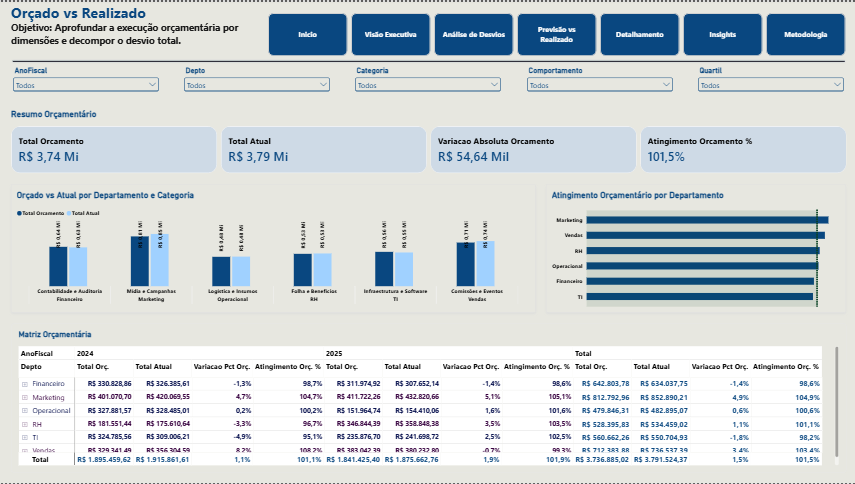

The page's visual inventory and layout, read from the dashboard file:
{"tool":"powerbi","page":{"name":"Orçado vs Realizado","canvas":[1920,1080],"ordinal":2},"visuals":[{"type":"textbox","box":[24,0,552,120],"z":0},{"type":"pageNavigator","title":"Áreas de Análise:","box":[600,24,1296,96],"z":1000},{"type":"shape","box":[24,120,1872,24],"z":2000},{"type":"slicer","fields":{"Values":["FatoOrcamento.AnoFiscal"]},"box":[24,144,336,72],"z":3000},{"type":"slicer","fields":{"Values":["FatoOrcamento.Quartil"]},"box":[1560,144,336,72],"z":4000},{"type":"slicer","fields":{"Values":["FatoOrcamento.Depto"]},"box":[408,144,336,72],"z":5000},{"type":"slicer","fields":{"Values":["FatoOrcamento.Comportamento"]},"box":[1176,144,336,72],"z":6000},{"type":"slicer","fields":{"Values":["FatoOrcamento.Categoria"]},"box":[792,144,336,72],"z":7000},{"type":"cardVisual","title":"Resumo Orçamentário","fields":{"Data":["Medidas.Total Orcamento","Medidas.Total Atual","Medidas.Variacao Absoluta Orcamento","Medidas.Atingimento Orcamento %"]},"box":[24,240,1872,144],"z":7001},{"type":"clusteredColumnChart","title":"Orçado vs Atual por Departamento e Categoria","fields":{"Category":["FatoOrcamento.Depto","FatoOrcamento.Categoria"],"Y":["Medidas.Total Orcamento","Medidas.Total Atual"]},"box":[24,408,1176,288],"z":7002},{"type":"barChart","title":"Atingimento Orçamentário por Departamento","fields":{"Category":["FatoOrcamento.Depto"],"Y":["Medidas.Atingimento Orcamento %"]},"box":[1224,408,672,288],"z":7003},{"type":"pivotTable","title":"Matriz Orçamentária","fields":{"Columns":["FatoOrcamento.AnoFiscal"],"Rows":["FatoOrcamento.Depto","FatoOrcamento.Categoria"],"Values":["Medidas.Total Orcamento","Medidas.Total Atual","Medidas.Variacao Pct Orcamento","Medidas.Atingimento Orcamento %"]},"box":[24,720,1872,336],"z":7004}]}

Visuals, with their boxes in screenshot pixels (x1, y1, x2, y2), scaled from the page's 1920x1080 canvas onto the 855x484 screenshot:
textbox: [11, 0, 256, 54]
"Áreas de Análise:" pageNavigator: [267, 11, 844, 54]
shape: [11, 54, 844, 65]
slicer - FatoOrcamento.AnoFiscal: [11, 65, 160, 97]
slicer - FatoOrcamento.Quartil: [695, 65, 844, 97]
slicer - FatoOrcamento.Depto: [182, 65, 331, 97]
slicer - FatoOrcamento.Comportamento: [524, 65, 673, 97]
slicer - FatoOrcamento.Categoria: [353, 65, 502, 97]
"Resumo Orçamentário" cardVisual: [11, 108, 844, 172]
"Orçado vs Atual por Departamento e Categoria" clusteredColumnChart: [11, 183, 534, 312]
"Atingimento Orçamentário por Departamento" barChart: [545, 183, 844, 312]
"Matriz Orçamentária" pivotTable: [11, 323, 844, 473]
